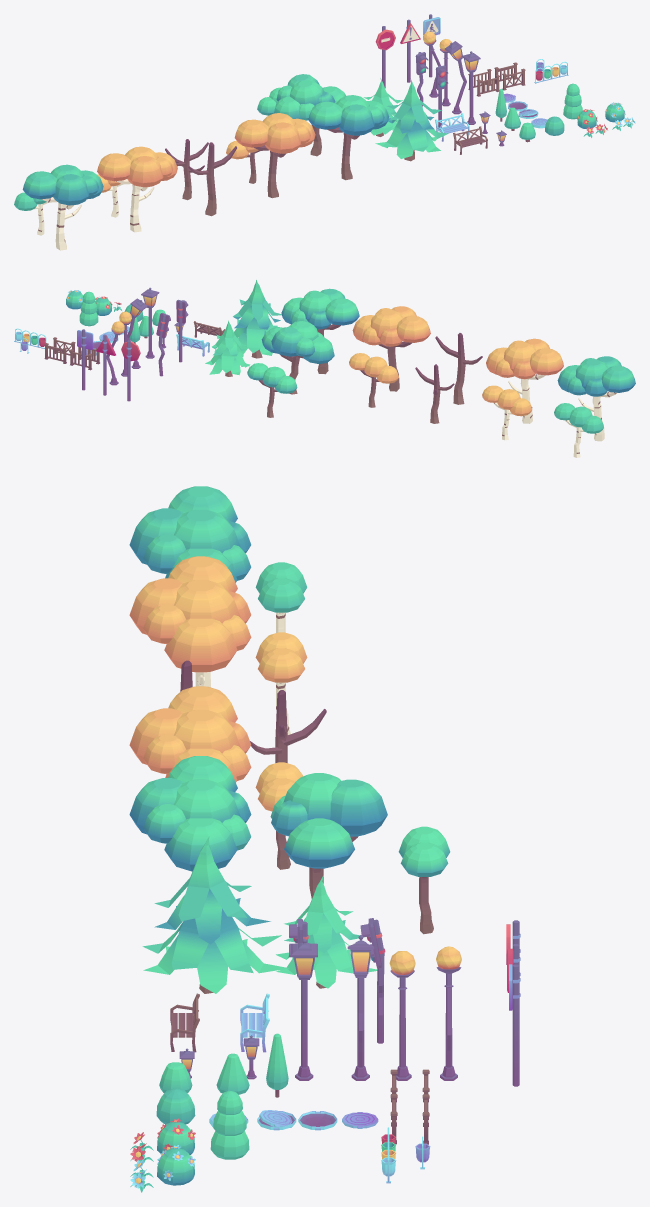
Rendered from tree_assets.glb.
3 views of the same model, one above another, from view 1: azimuth 30°, elevation 25°; view 2: azimuth 150°, elevation 25°; view 3: azimuth 270°, elevation 25° (orthographic). The views are drawn at different scales.
Visible parts, largest first — view 1: Birch.001_11, Birch_9, tree.002_1, tree.001_2, Spruce_0, tree.003_7, tree_3, small tree.001_8, small pruce_6, small birch_12, bush.006_28, Lantern_32 (+9 smaller); view 2: Birch.001_11, Birch_9, tree.001_2, tree.002_1, tree.003_7, Spruce_0, small pruce_6, small birch.001_10, small birch_12, small tree.002_5, small tree_4, tree_3 (+17 smaller); view 3: Birch_9, tree.002_1, Spruce_0, tree.003_7, Birch.001_11, tree.001_2, small pruce_6, small tree_4, small birch_12, small birch.001_10, bush.006_28, small tree.002_5 (+12 smaller).
Boxes of the visible parts, x1,y1,x2,y2 form: Birch.001_11: (22,164,103,250); Birch_9: (97,146,177,232); tree.002_1: (308,95,389,180); tree.001_2: (234,113,315,198); Spruce_0: (375,79,448,161); tree.003_7: (274,74,345,156); tree_3: (188,142,236,216); small tree.001_8: (165,139,208,200); small pruce_6: (363,78,403,136); small birch_12: (14,192,48,235); bush.006_28: (563,83,582,119); Lantern_32: (461,51,480,124); Birch.001_11: (557,356,635,441); Birch_9: (486,338,563,423); tree.001_2: (352,306,430,391); tree.002_1: (281,288,359,374); tree.003_7: (261,321,334,394); Spruce_0: (233,280,281,358); small pruce_6: (205,320,250,376); small birch.001_10: (482,385,532,440); small birch_12: (554,403,603,457); small tree.002_5: (349,353,398,407); small tree_4: (247,363,297,417); tree_3: (435,333,482,404); Birch_9: (129,556,251,687); tree.002_1: (129,756,251,871); Spruce_0: (142,836,289,993); tree.003_7: (270,773,387,898); Birch.001_11: (129,486,251,582); tree.001_2: (129,686,251,782); small pruce_6: (276,876,377,988); small tree_4: (398,826,450,934); small birch_12: (255,562,307,632); small birch.001_10: (255,632,307,734); bush.006_28: (210,1091,249,1159); small tree.002_5: (255,762,302,869).
Bounding box in the file's own units: 120 × 16.31 × 35.24.
Materials: 2 (2 with a texture image).
